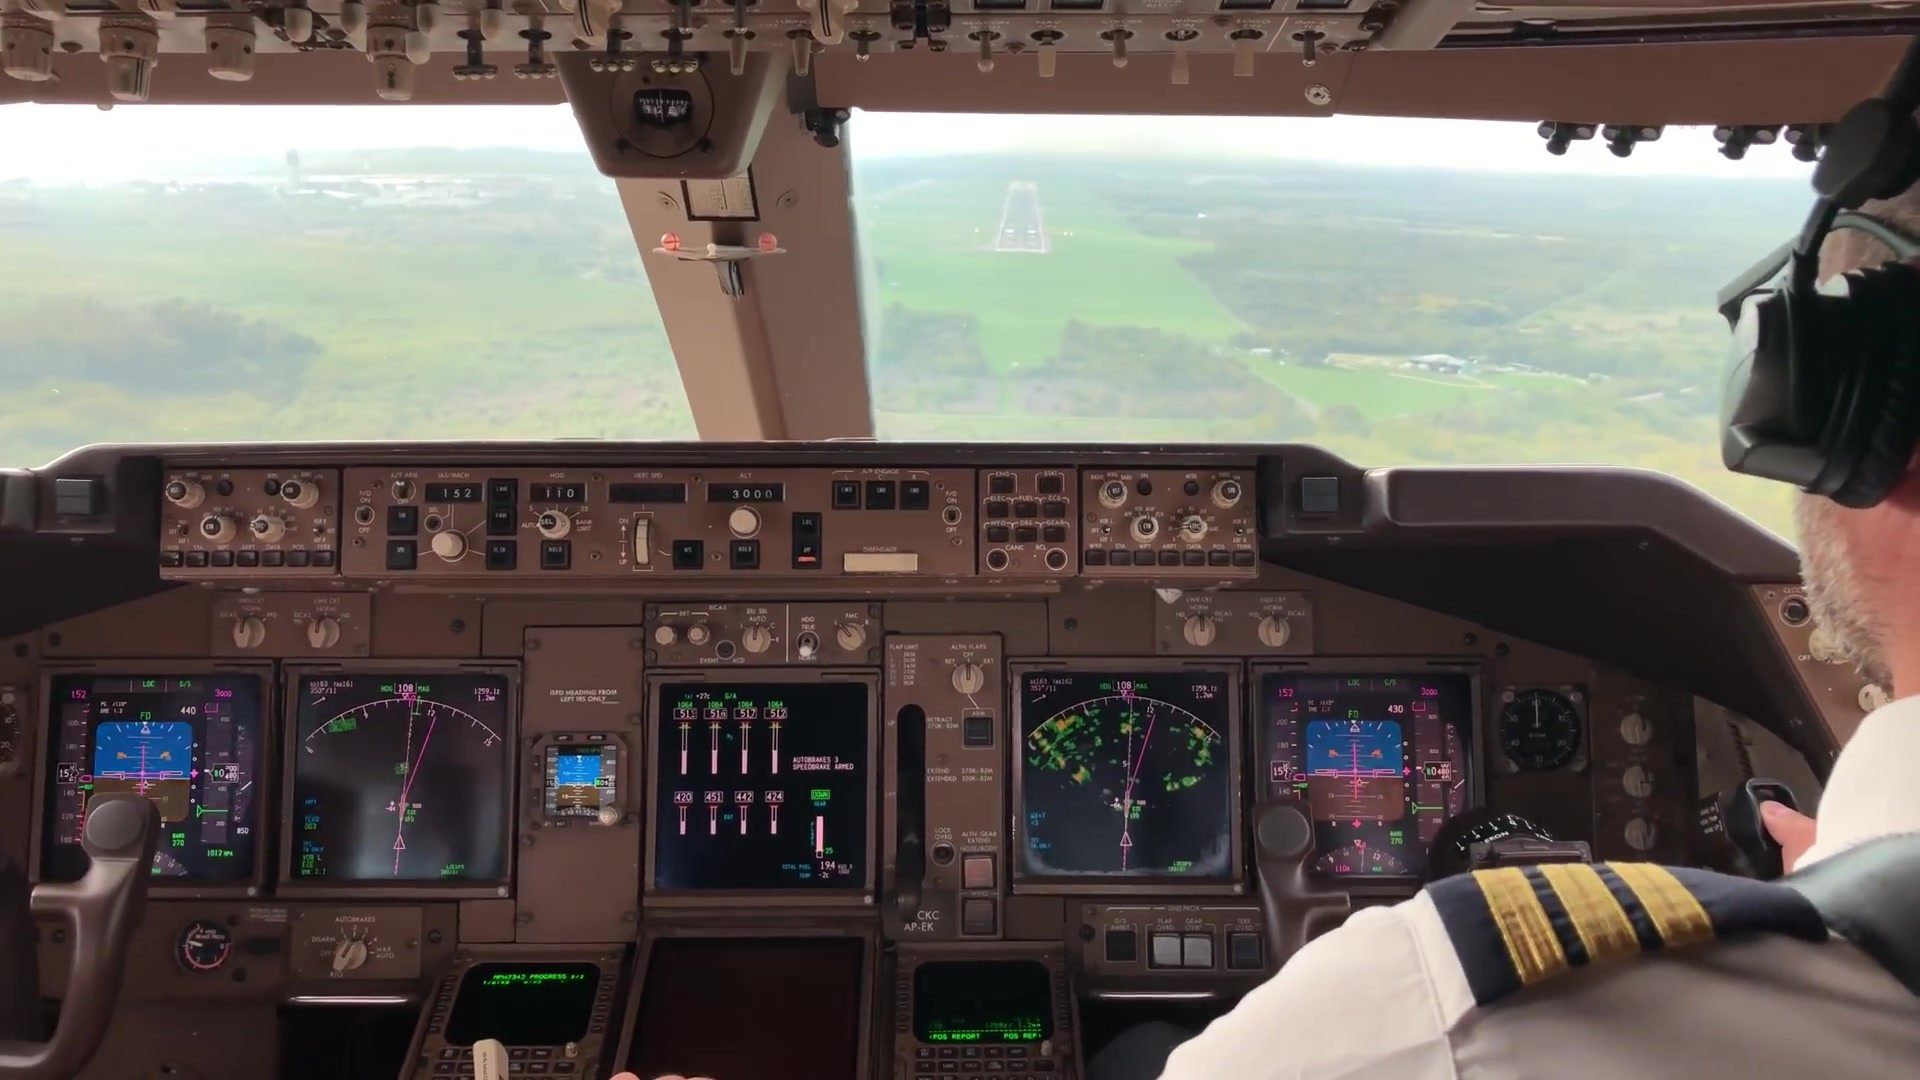runway: (993, 178, 1051, 255)
